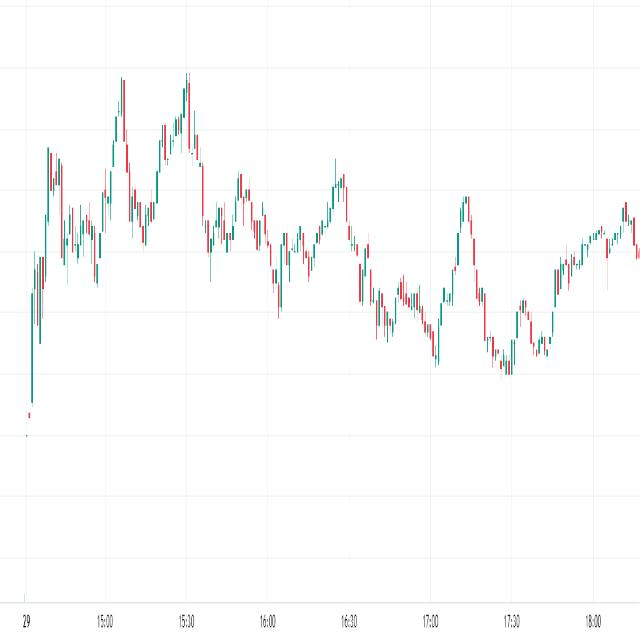Double-Bottom: (196, 168, 244, 277)
